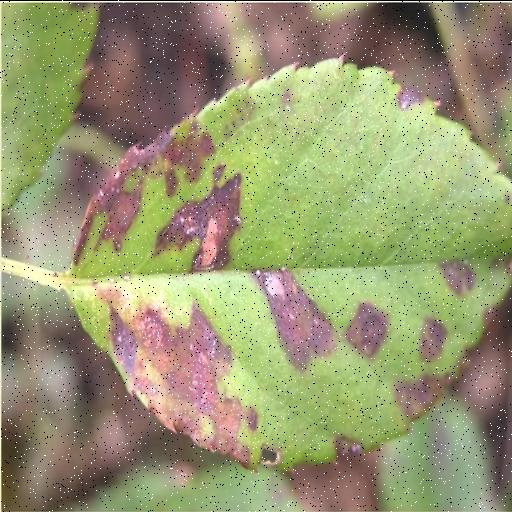downy_mildew: (67, 60, 511, 467)
healthy_leaf: (2, 4, 97, 208), (378, 398, 500, 511), (86, 466, 301, 511)
